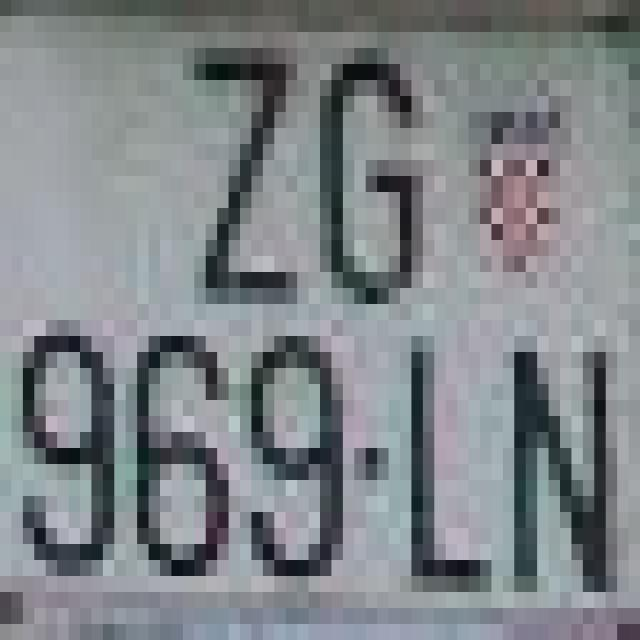6: (114, 304, 229, 576)
9: (240, 320, 343, 592), (11, 304, 114, 576)
G: (320, 48, 434, 304)
L: (377, 336, 514, 608)
N: (480, 336, 606, 608)
Z: (182, 32, 308, 320)
